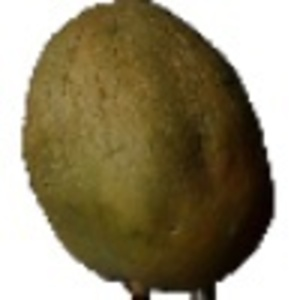mamão: (16, 2, 280, 291)
